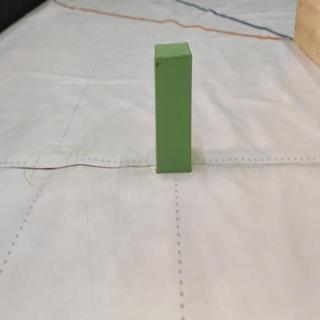greenbox: (154, 41, 192, 173)
